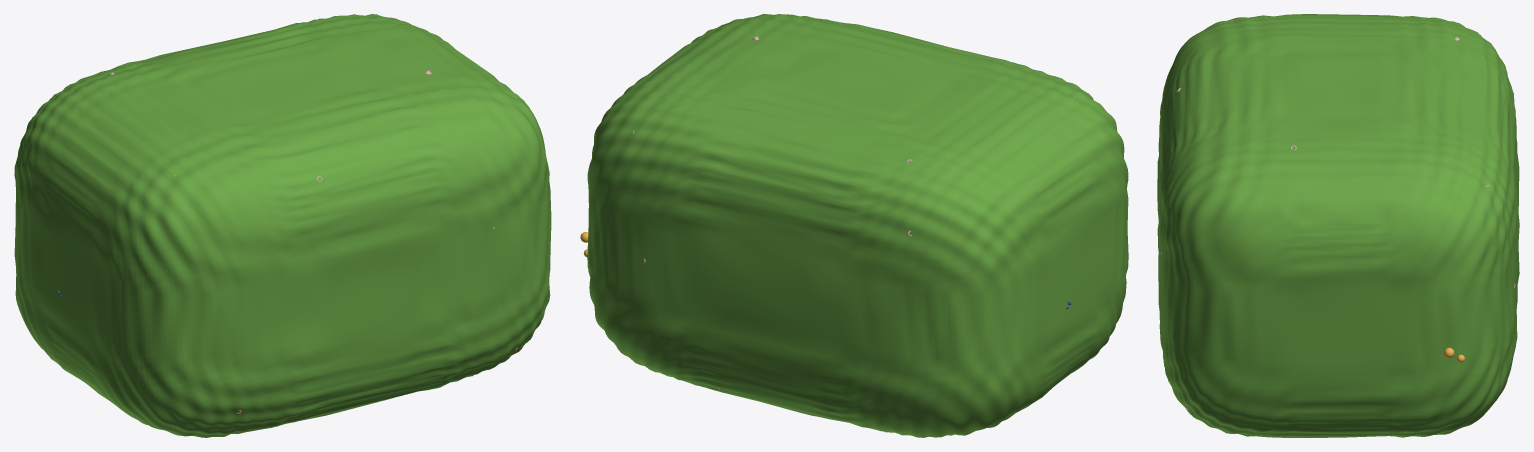
File: celula-vegetal.glb
The picture shows the model from 3 angles, left to right: view 1: azimuth 30°, elevation 25°; view 2: azimuth 150°, elevation 25°; view 3: azimuth 270°, elevation 25°; orthographic projection.
Parts seen in each view (by area): view 1: parede; view 2: parede; view 3: parede.
Boxes of the visible parts, box(x1,y1,x2,y2) form: parede: box(14, 14, 551, 437); parede: box(587, 14, 1128, 437); parede: box(1157, 14, 1519, 437).
Size of the model in its own units: 7.56 by 4.75 by 5.45.
